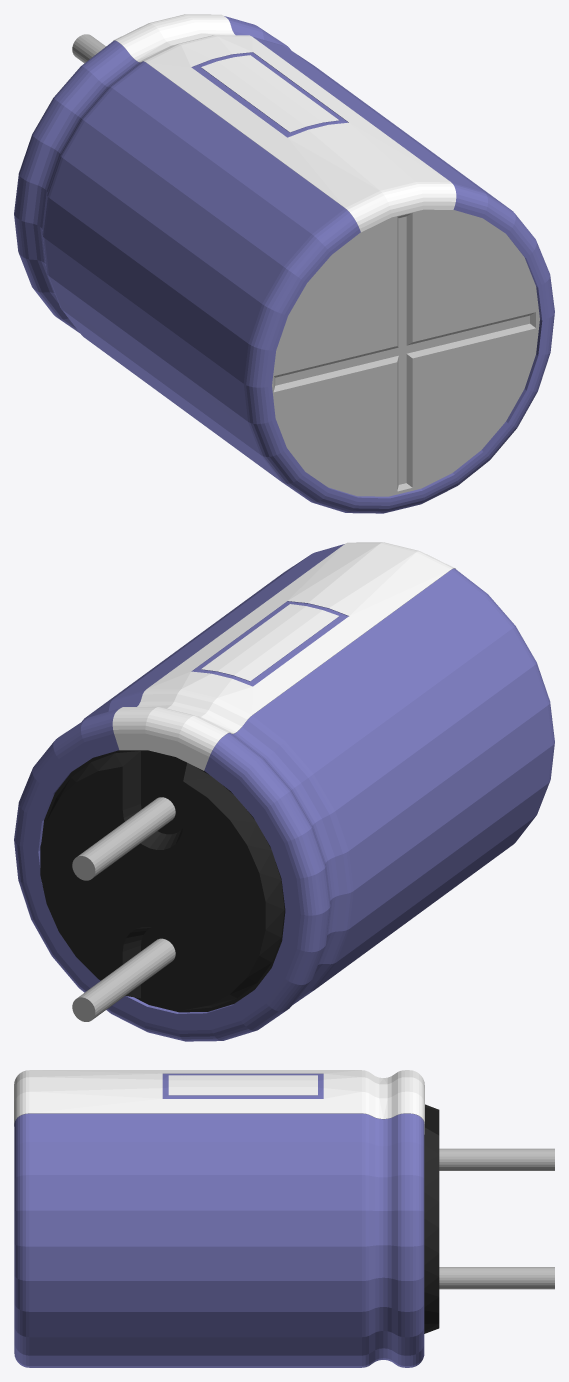
The model's file is cap_el_d8_h11.5_pitch3.5_w0.6.obj.
3 views of the same model, one above another, from view 1: azimuth 30°, elevation 25°; view 2: azimuth 150°, elevation 25°; view 3: azimuth 270°, elevation 25° (orthographic). The views are drawn at different scales.
Parts seen in each view (by area): view 1: cap_el_d8_h11.5_pitch3.5_w0.6; view 2: cap_el_d8_h11.5_pitch3.5_w0.6; view 3: cap_el_d8_h11.5_pitch3.5_w0.6.
Part boxes in pixels (left/top/right/bottom): cap_el_d8_h11.5_pitch3.5_w0.6: left=14, top=14, right=554, bottom=513; cap_el_d8_h11.5_pitch3.5_w0.6: left=14, top=542, right=554, bottom=1041; cap_el_d8_h11.5_pitch3.5_w0.6: left=14, top=1070, right=554, bottom=1367.
Size of the model in its own units: 0.0143 by 0.0142 by 0.0259.
